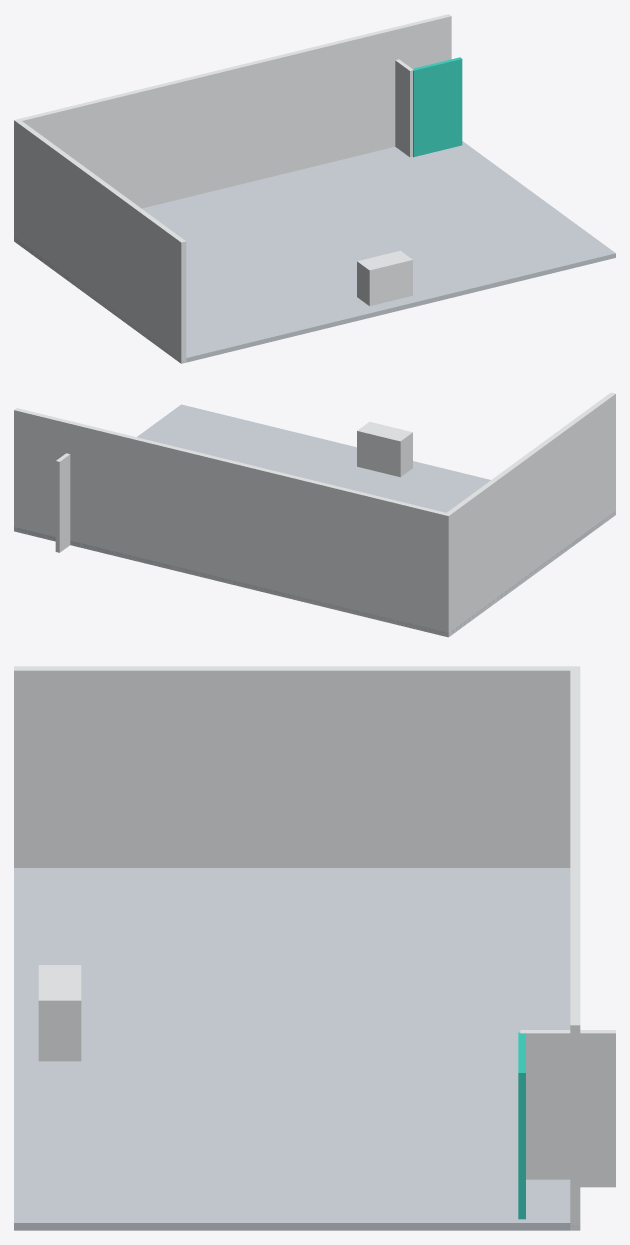
3 views of the same model, one above another, from view 1: azimuth 30°, elevation 25°; view 2: azimuth 150°, elevation 25°; view 3: azimuth 270°, elevation 25° (orthographic). The views are drawn at different scales.
Visible parts, largest first — view 1: Exhibition Booth Concept; view 2: Exhibition Booth Concept; view 3: Exhibition Booth Concept.
Boxes of the visible parts, x1,y1,x2,y2 form: Exhibition Booth Concept: (14, 14, 615, 363); Exhibition Booth Concept: (14, 392, 615, 637); Exhibition Booth Concept: (14, 666, 615, 1230).
Size of the model in its own units: 12 by 3.2 by 8.51.
